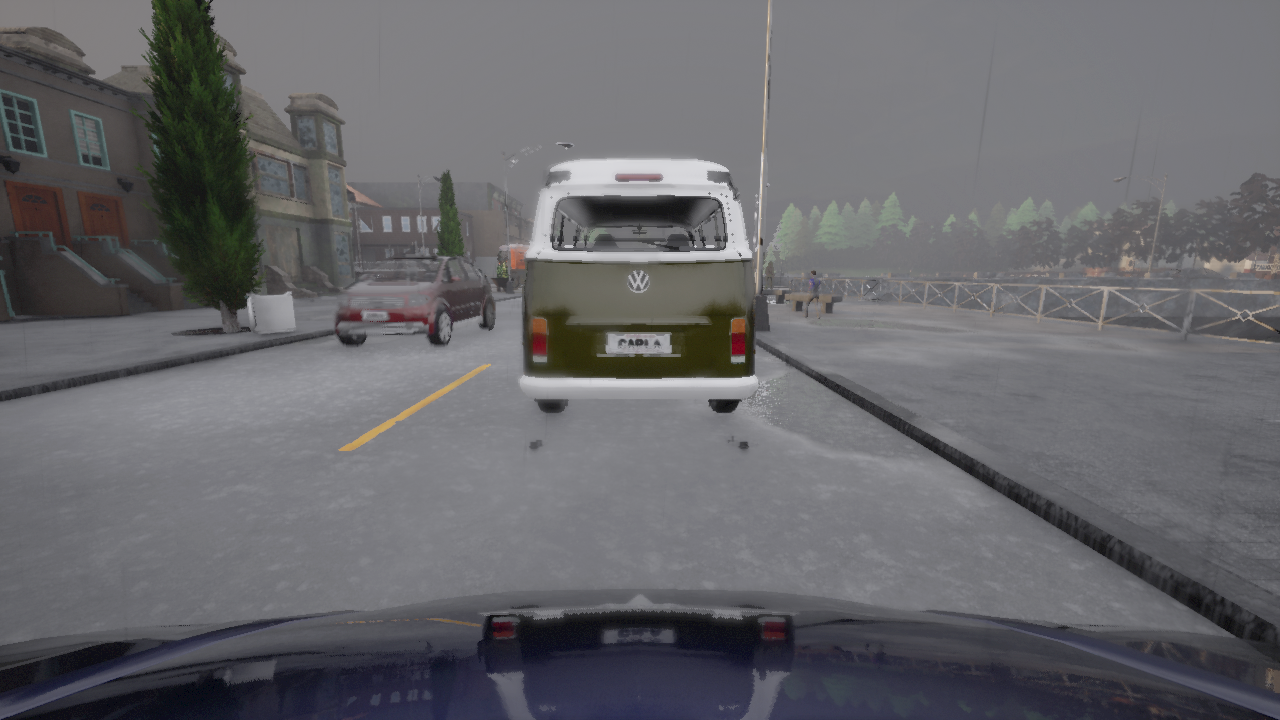cyclist: (0, 588, 1279, 719), (519, 159, 758, 413), (334, 255, 494, 346), (498, 245, 529, 288), (1161, 267, 1229, 278), (354, 264, 366, 280)
pedestrian: (803, 269, 820, 319), (765, 262, 773, 288)
